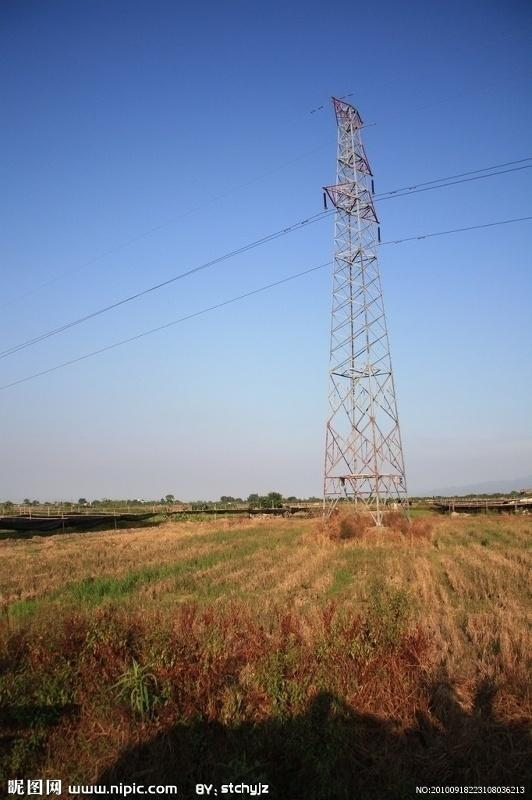power_tower: (302, 98, 410, 499)
